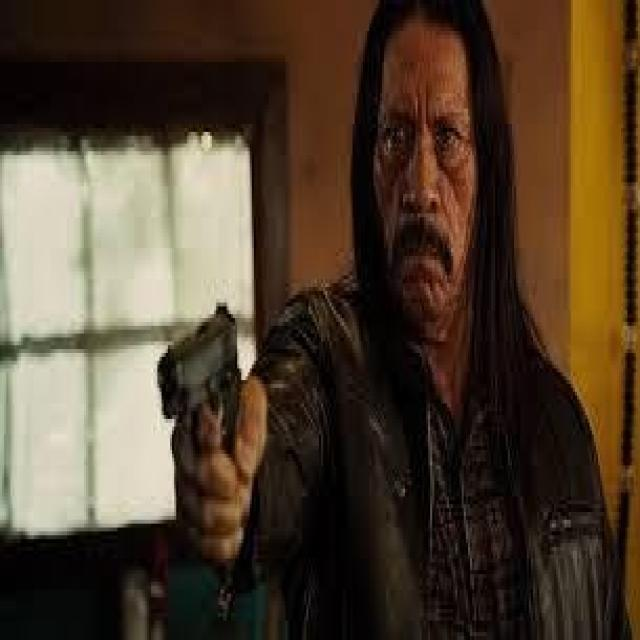gun: (151, 304, 247, 552)
